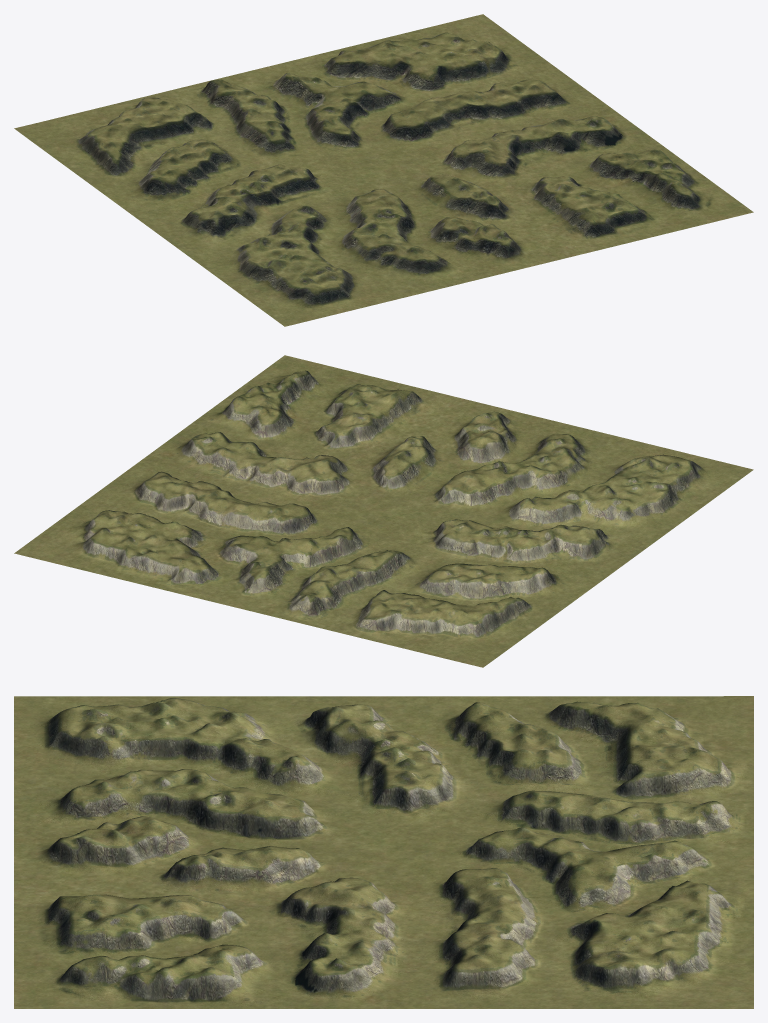
Rendered from newmap.fbx.
3 renders of one model, top to bottom at view 1: azimuth 30°, elevation 25°; view 2: azimuth 150°, elevation 25°; view 3: azimuth 270°, elevation 25°, orthographic. The views are drawn at different scales.
Parts seen in each view (by area): view 1: terrain_c_tex; view 2: terrain_c_tex; view 3: terrain_c_tex.
Part boxes in pixels (x1,y1,x2,y2): terrain_c_tex: (14, 14, 753, 326); terrain_c_tex: (14, 355, 753, 667); terrain_c_tex: (14, 696, 753, 1008).
Bounding box in the file's own units: 2.55 × 0.0885 × 2.55.
1 material, 1 textured.
